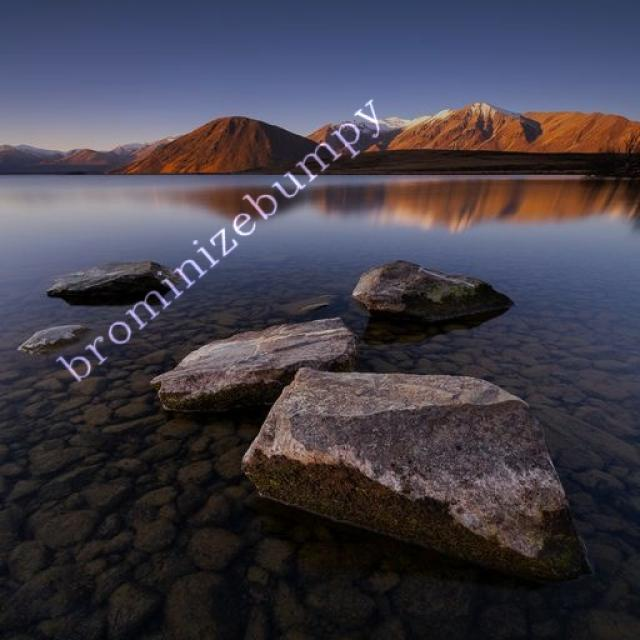watermark: (63, 80, 386, 393)
